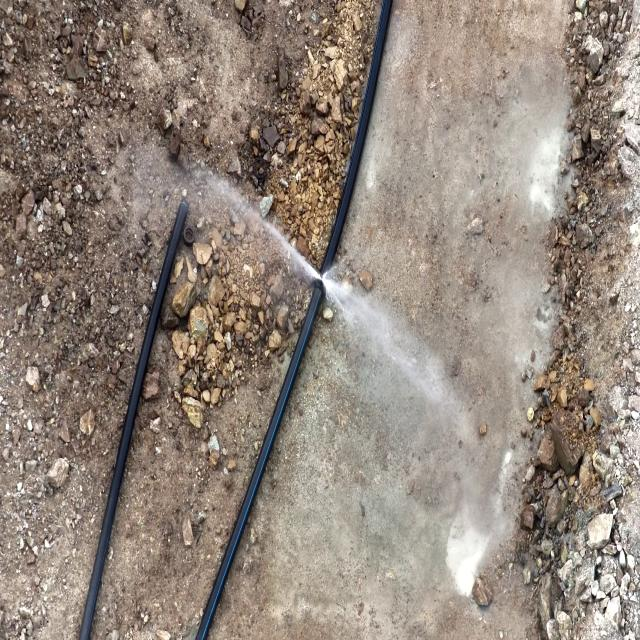leak: (215, 179, 370, 333)
